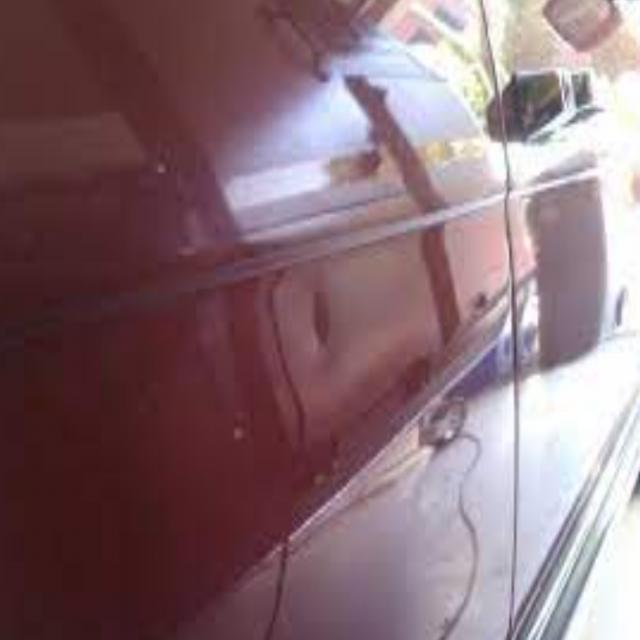dents: (296, 285, 358, 394)
